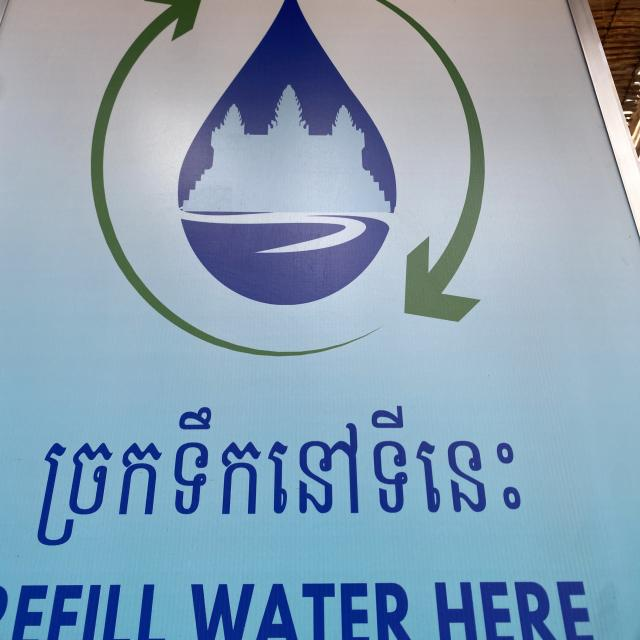Yolov11kh: (14, 399, 536, 571)
